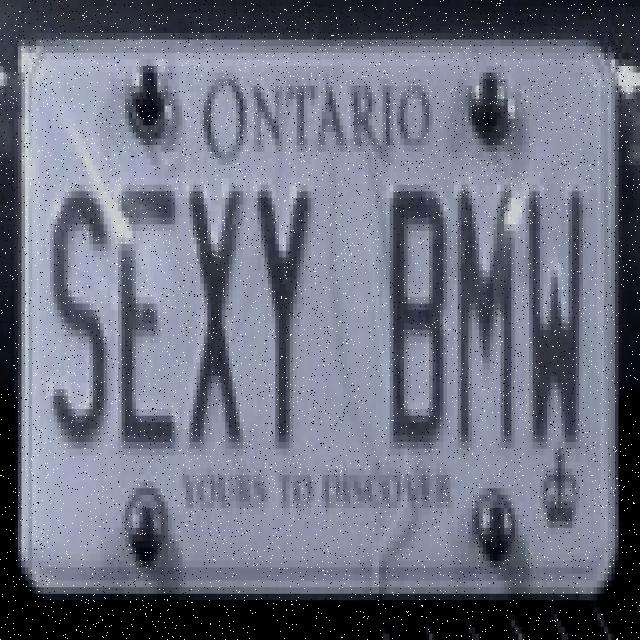licenseplate: (7, 13, 631, 626)
